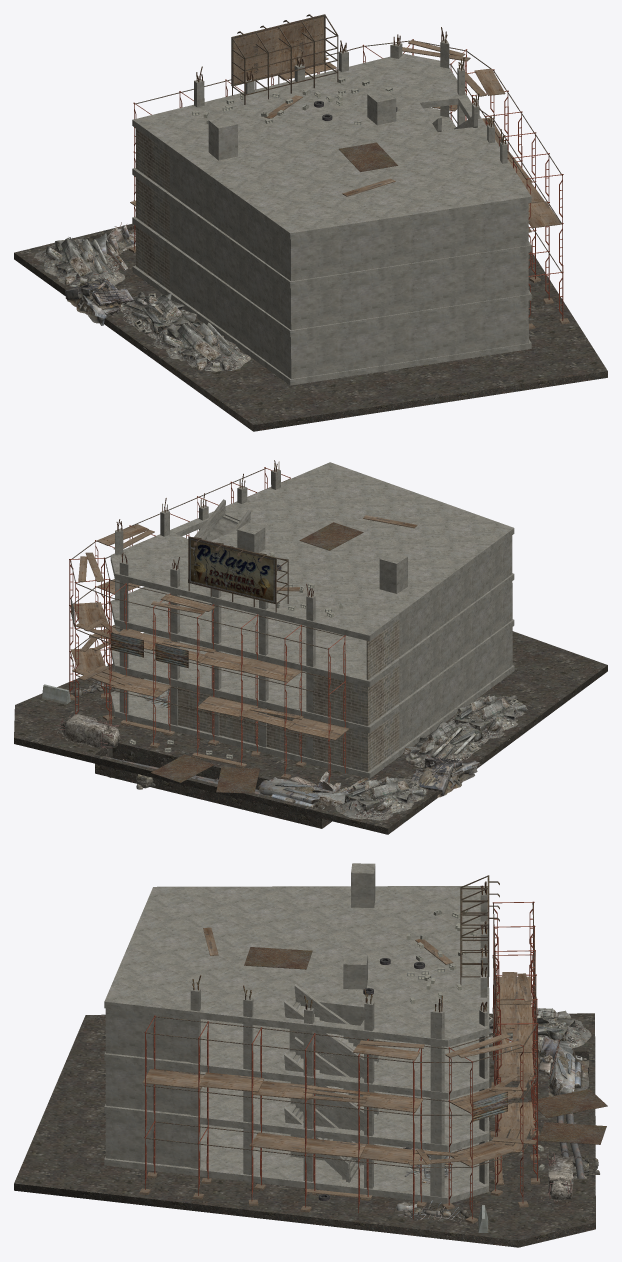
The model's file is construction.gltf.
The picture shows the model from 3 angles, top to bottom: view 1: azimuth 30°, elevation 25°; view 2: azimuth 150°, elevation 25°; view 3: azimuth 270°, elevation 25°; orthographic projection. The views are drawn at different scales.
Parts seen in each view (by area): view 1: walls, Boole_1, cunstructionbuilding, brick, sign_2, woodplanks, skela, frame, steel, bars, bricks, metalbars; view 2: walls, Boole_1, cunstructionbuilding, brick, woodplanks, skela, signback, Boole_1_2, steel, bars, debris, metalplates (+2 smaller); view 3: walls, Boole_1, woodplanks, skela, cunstructionbuilding, steel, bars, stairs_2, stairs_1, frame, stairs, debris (+5 smaller).
Boxes of the visible parts, x1=… form: walls: x1=132, y1=39, x2=531, y2=385; Boole_1: x1=14, y1=223, x2=607, y2=431; cunstructionbuilding: x1=34, y1=222, x2=251, y2=371; brick: x1=135, y1=128, x2=169, y2=290; sign_2: x1=233, y1=17, x2=323, y2=84; woodplanks: x1=129, y1=40, x2=569, y2=329; skela: x1=133, y1=39, x2=563, y2=320; frame: x1=231, y1=14, x2=338, y2=104; steel: x1=339, y1=142, x2=397, y2=171; bars: x1=134, y1=40, x2=562, y2=273; bricks: x1=192, y1=77, x2=392, y2=125; metalbars: x1=196, y1=27, x2=506, y2=144; walls: x1=110, y1=462, x2=514, y2=778; Boole_1: x1=14, y1=631, x2=607, y2=834; cunstructionbuilding: x1=72, y1=679, x2=528, y2=820; brick: x1=178, y1=619, x2=399, y2=772; woodplanks: x1=70, y1=515, x2=417, y2=779; skela: x1=69, y1=467, x2=345, y2=782; signback: x1=189, y1=539, x2=274, y2=602; Boole_1_2: x1=95, y1=746, x2=331, y2=828; steel: x1=151, y1=522, x2=363, y2=793; bars: x1=70, y1=468, x2=343, y2=741; debris: x1=54, y1=714, x2=120, y2=748; metalplates: x1=71, y1=597, x2=188, y2=668; walls: x1=104, y1=863, x2=489, y2=1203; Boole_1: x1=14, y1=1013, x2=595, y2=1247; woodplanks: x1=139, y1=927, x2=540, y2=1223; skela: x1=144, y1=901, x2=538, y2=1219; cunstructionbuilding: x1=388, y1=1006, x2=591, y2=1222; steel: x1=244, y1=947, x2=607, y2=1144; bars: x1=146, y1=903, x2=537, y2=1168; stairs_2: x1=284, y1=984, x2=378, y2=1078; stairs_1: x1=284, y1=1037, x2=378, y2=1131; frame: x1=460, y1=875, x2=499, y2=986; stairs: x1=284, y1=1098, x2=360, y2=1182; debris: x1=546, y1=1152, x2=573, y2=1201.
Bounding box in the file's own units: 29.61 × 15.1 × 32.08.
Materials: 21 (21 with a texture image).
